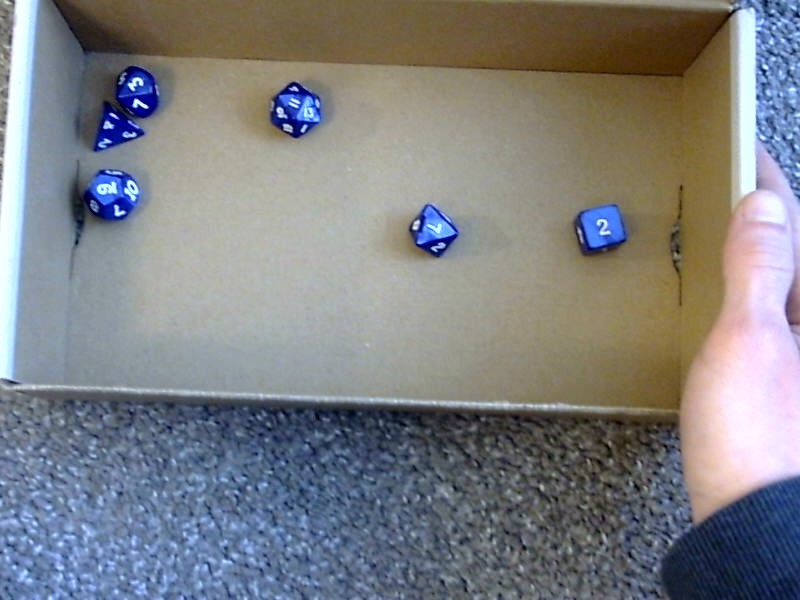d10 3: (115, 66, 172, 118)
d12 9: (82, 162, 146, 224)
d20 11: (267, 77, 324, 139)
d4 4: (83, 97, 148, 152)
d6 2: (572, 198, 631, 259)
d8 7: (404, 199, 465, 259)
